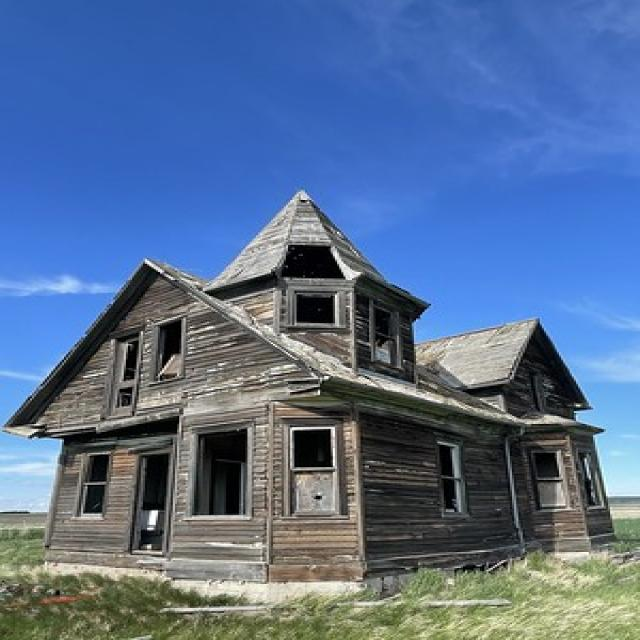building: (3, 183, 620, 599)
